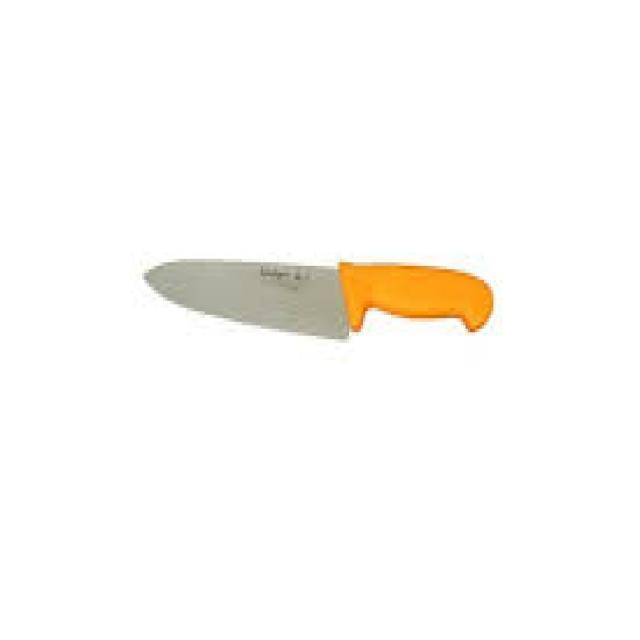Knife: (142, 256, 493, 340)
